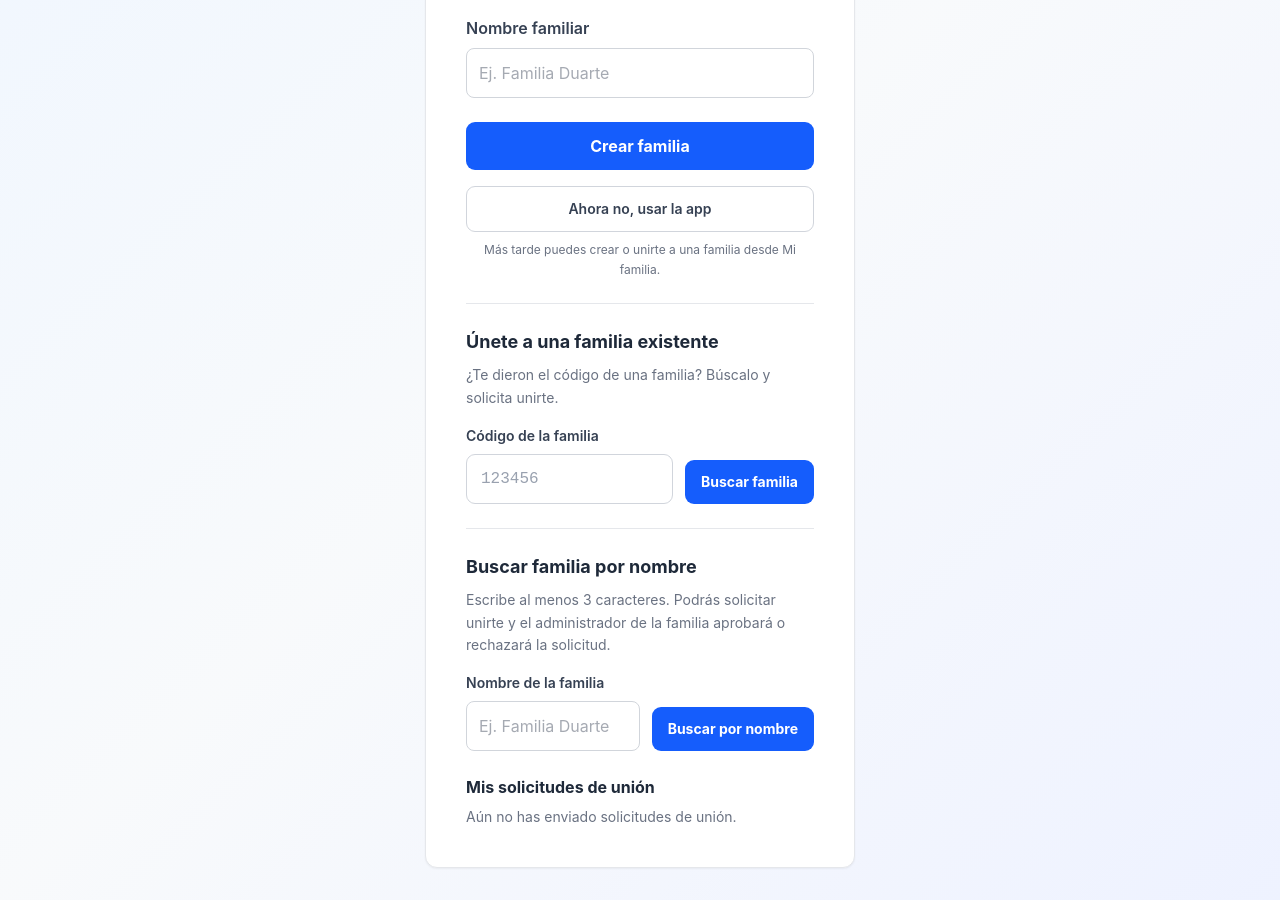
Scenario: HogarPendiente › busca por nombre y solicita unión con el idHogar
The image size is (1280, 900).
(page scrolled)
Step 1. Type "Argueta" into the search field labelled "Nombre de la familia" → point(553, 726), box [466,701,640,751]
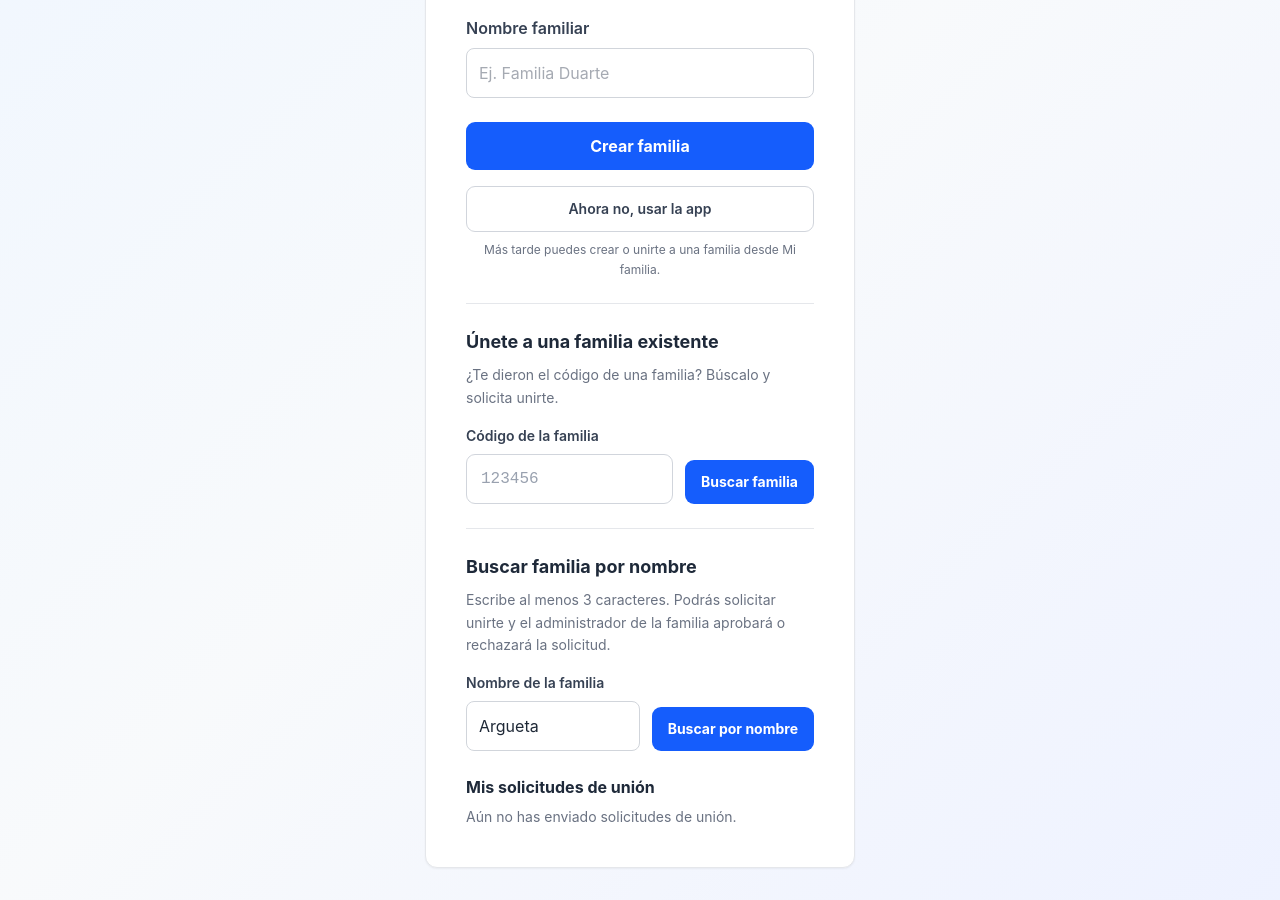
Step 2. Click the button "Buscar por nombre" → point(733, 729), box [652,707,814,751]
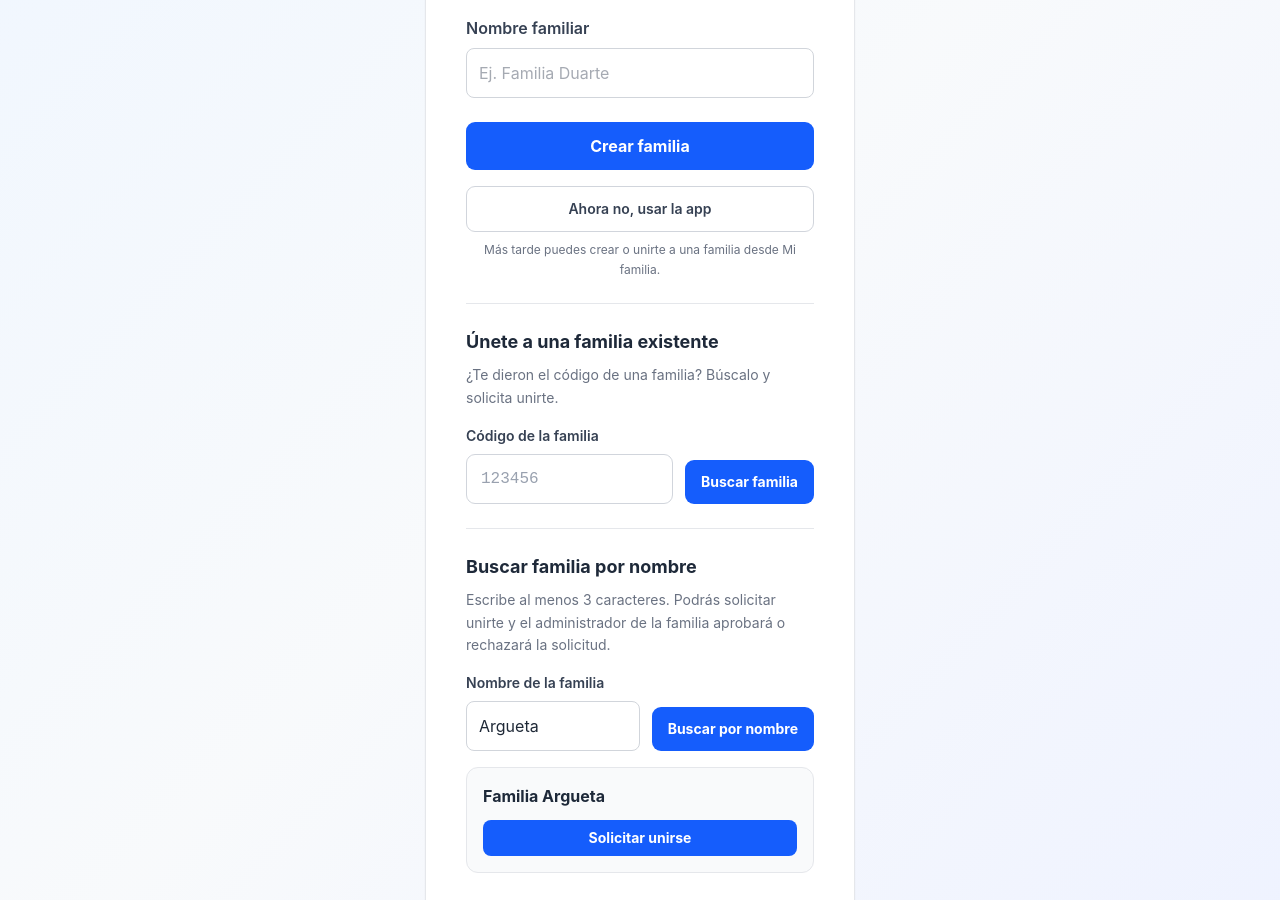
Check: the text "Familia Argueta" is shown, box [483,786,605,806]
Step 3. Click the button "Solicitar unirse" → point(640, 838), box [483,820,797,856]
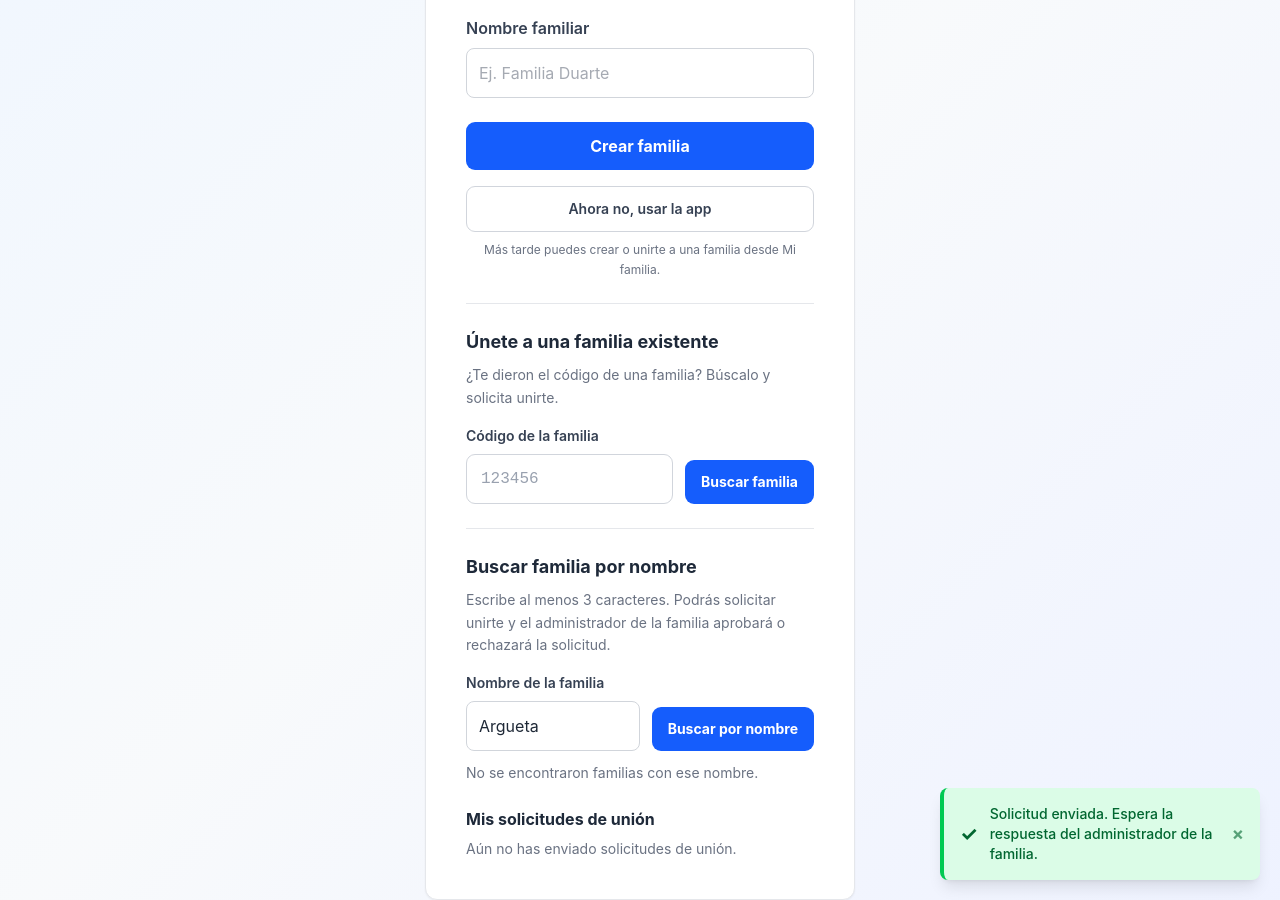
Check: the text "Solicitud enviada. Espera la respuesta del administrador de la familia." is shown, box [990,804,1220,864]
